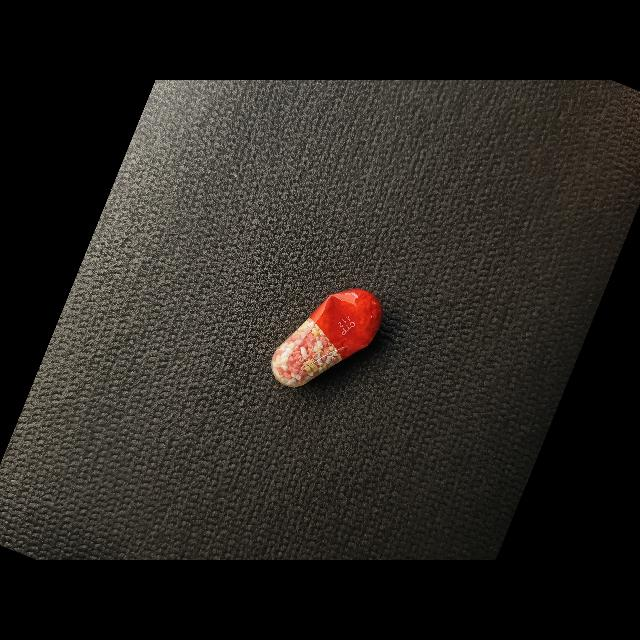Defective Capsule: (271, 289, 382, 387)
